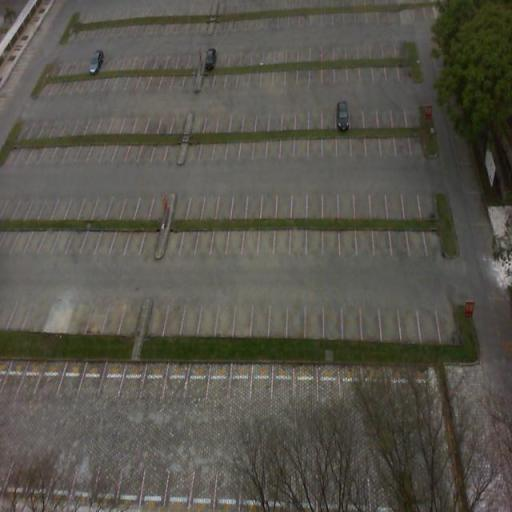Slot-empty: (267, 348, 300, 412), (288, 358, 325, 407), (162, 351, 194, 403), (248, 354, 280, 406), (184, 354, 217, 404), (204, 356, 238, 404), (226, 356, 258, 406), (122, 352, 149, 410), (312, 358, 347, 402), (138, 358, 171, 404), (16, 351, 48, 397), (78, 351, 108, 400), (36, 353, 67, 398), (101, 351, 127, 400), (59, 354, 87, 399)
Slot-occupied: (332, 98, 356, 136)
